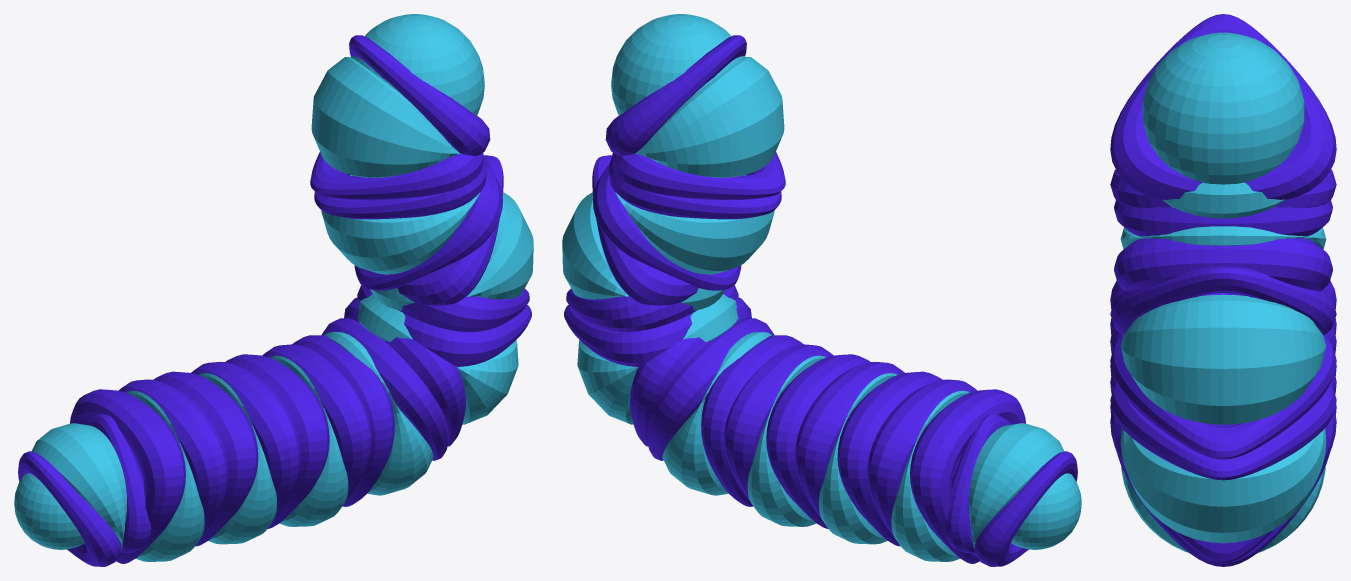
Rendered from caterpillar.fbx.
The picture shows the model from 3 angles, left to right: view 1: azimuth 30°, elevation 25°; view 2: azimuth 150°, elevation 25°; view 3: azimuth 270°, elevation 25°; orthographic projection. The views are drawn at different scales.
Parts seen in each view (by area): view 1: Torus.001; view 2: Torus.001; view 3: Torus.001.
Part boxes in pixels (bbox=[...]): Torus.001: bbox=[14, 14, 533, 566]; Torus.001: bbox=[562, 14, 1081, 566]; Torus.001: bbox=[1110, 14, 1336, 566].
Bounding box in the file's own units: 840 × 742 × 275.
